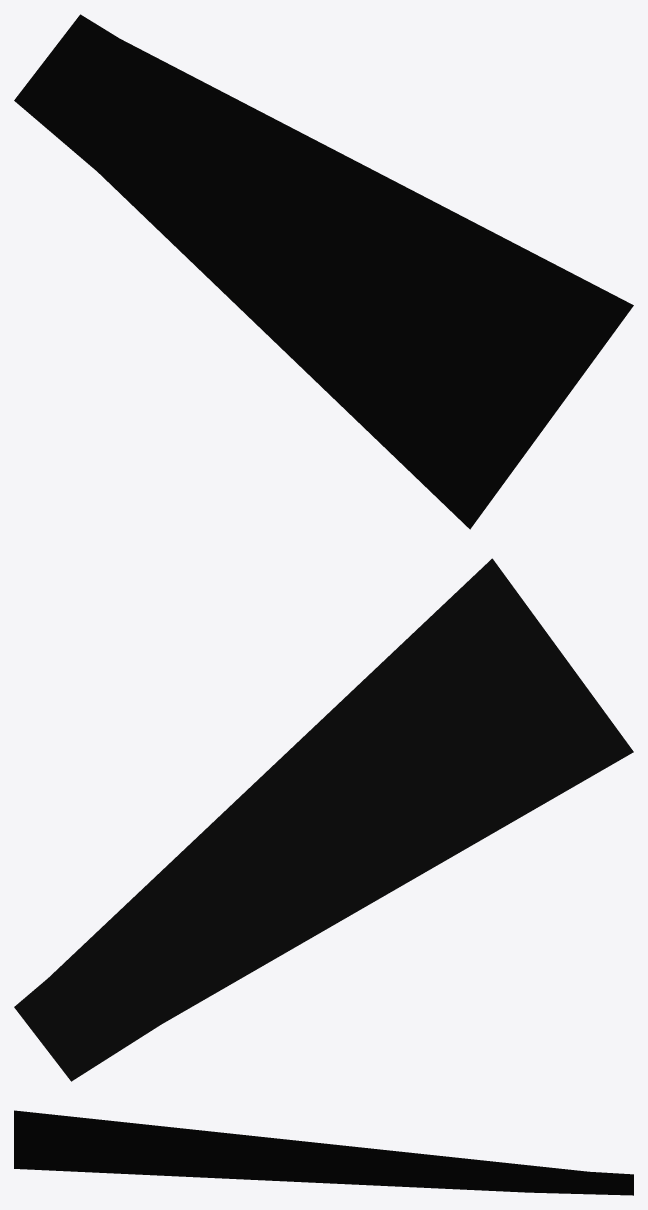
The picture shows the model from 3 angles, top to bottom: view 1: azimuth 30°, elevation 25°; view 2: azimuth 150°, elevation 25°; view 3: azimuth 270°, elevation 25°; orthographic projection. The views are drawn at different scales.
Bounding box in the file's own units: 0.504 × 0.5417 × 2.95.
Materials: 1 (1 with a texture image).
